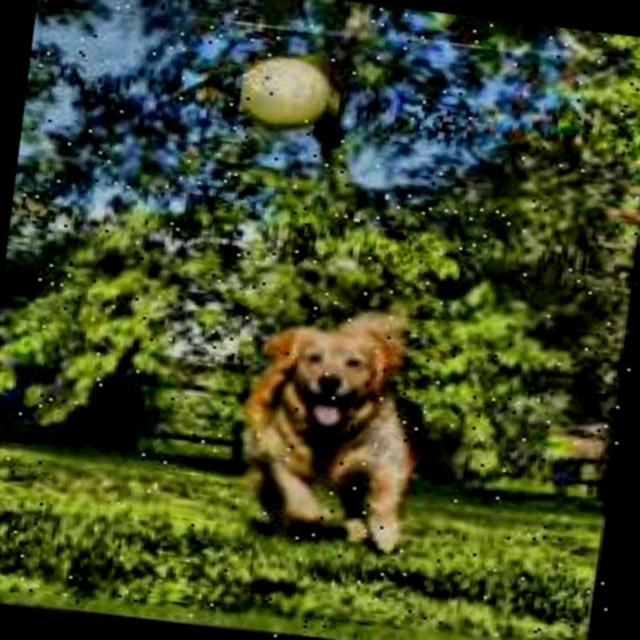tennis-ball: (236, 52, 350, 150)
